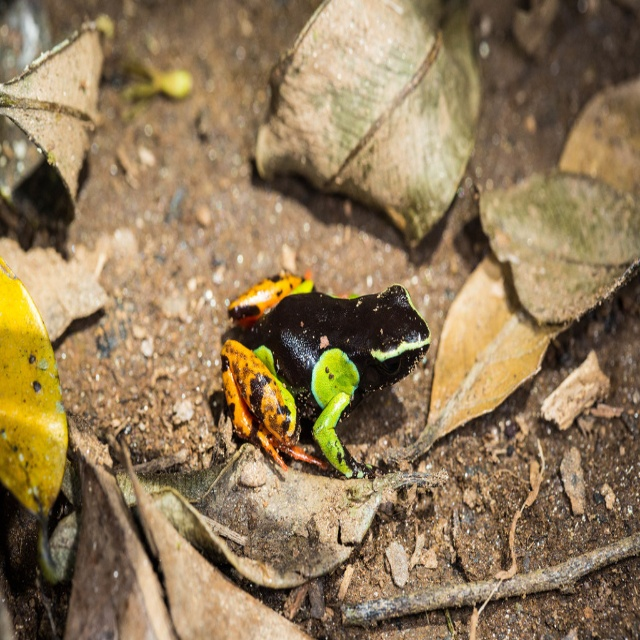Frog: (220, 269, 431, 479)
